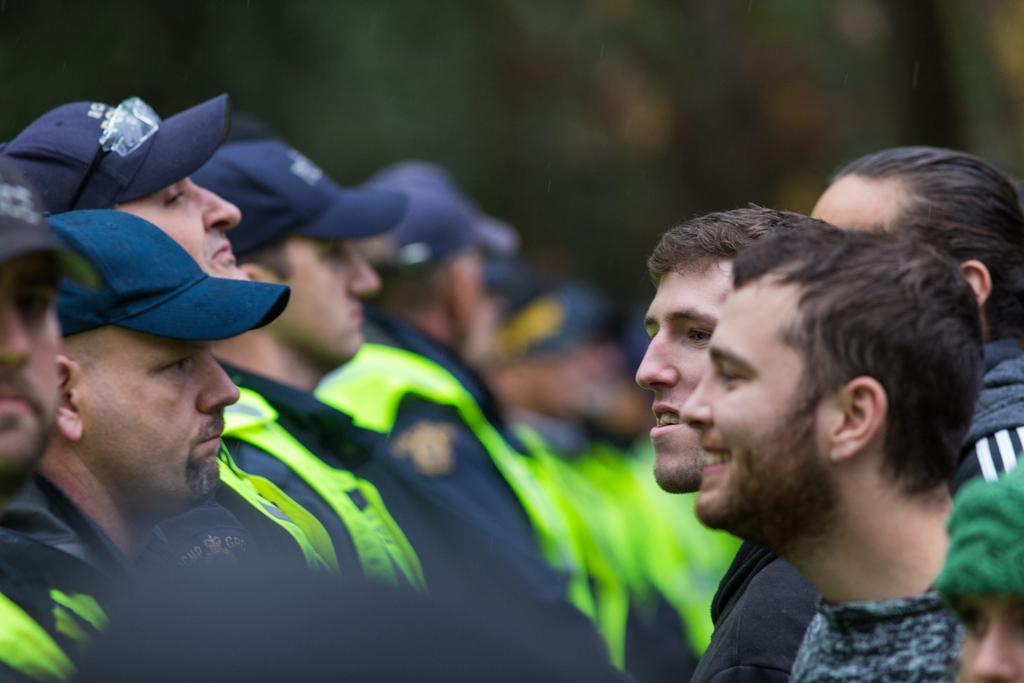Hat: (44, 204, 290, 338), (0, 90, 233, 216), (189, 136, 409, 254), (359, 161, 515, 251), (0, 157, 102, 293), (382, 188, 472, 269)
